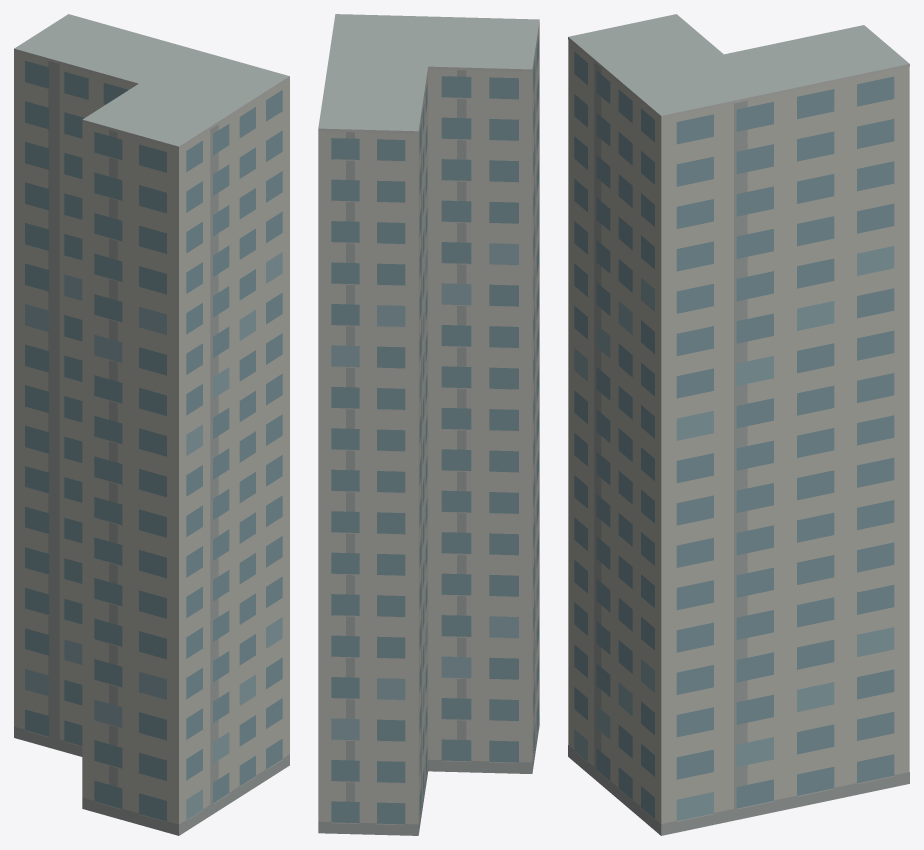
File: residential-e5a82652-8e4f-434a-8930-14f30b96ea7e.glb
3 views of the same model, side by side, from view 1: azimuth 30°, elevation 25°; view 2: azimuth 150°, elevation 25°; view 3: azimuth 270°, elevation 25° (orthographic). The views are drawn at different scales.
Parts seen in each view (by area): view 1: residential-e5a82652-8e4f-434a-8930-14f30b96ea7e.tmp; view 2: residential-e5a82652-8e4f-434a-8930-14f30b96ea7e.tmp; view 3: residential-e5a82652-8e4f-434a-8930-14f30b96ea7e.tmp.
Part boxes in pixels (bbox=[...]): residential-e5a82652-8e4f-434a-8930-14f30b96ea7e.tmp: bbox=[14, 14, 289, 835]; residential-e5a82652-8e4f-434a-8930-14f30b96ea7e.tmp: bbox=[318, 14, 539, 835]; residential-e5a82652-8e4f-434a-8930-14f30b96ea7e.tmp: bbox=[568, 14, 909, 835].
Size of the model in its own units: 18.84 by 62 by 26.67.
